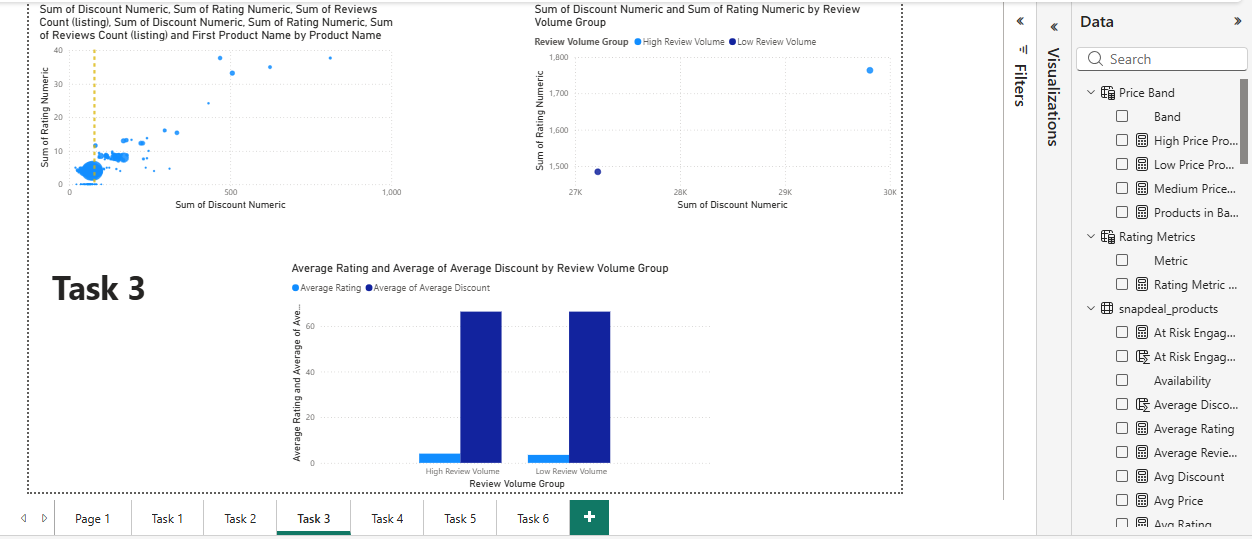

This screenshot's page, from the dashboard's own definition file:
{"tool":"powerbi","page":{"name":"Task 3","canvas":[1280,720],"ordinal":3},"visuals":[{"type":"scatterChart","fields":{"X":["Sum(snapdeal_products.Discount Numeric)"],"Y":["Sum(snapdeal_products.Rating Numeric)"],"Size":["Sum(snapdeal_products.Reviews Count (listing))"],"Category":["snapdeal_products.Product Name"]},"box":[9.6,0,542.3,311.1],"z":0},{"type":"scatterChart","fields":{"X":["Sum(snapdeal_products.Discount Numeric)"],"Y":["Sum(snapdeal_products.Rating Numeric)"],"Series":["snapdeal_products.Review Volume Group"]},"box":[737.7,0,542.3,311.1],"z":1000},{"type":"clusteredColumnChart","fields":{"Category":["snapdeal_products.Review Volume Group"],"Y":["snapdeal_products.Average Rating","Avg(snapdeal_products.Average Discount)"]},"box":[379.9,379.9,629,340],"z":2000},{"type":"textbox","box":[10.3,380.6,185.1,92.6],"z":2001}]}

Visuals, with their boxes on the page's 1280x720 design canvas (x1, y1, x2, y2). These are canvas units, not pixel positions in the 1252x539 screenshot, which may show the page scaled, cropped or inside an application window:
scatterChart - Sum(snapdeal_products.Discount Numeric) x Sum(snapdeal_products.Rating Numeric): locate(10, 0, 552, 311)
scatterChart - Sum(snapdeal_products.Discount Numeric) x Sum(snapdeal_products.Rating Numeric): locate(738, 0, 1280, 311)
clusteredColumnChart - snapdeal_products.Review Volume Group x snapdeal_products.Average Rating: locate(380, 380, 1009, 720)
textbox: locate(10, 381, 195, 473)
